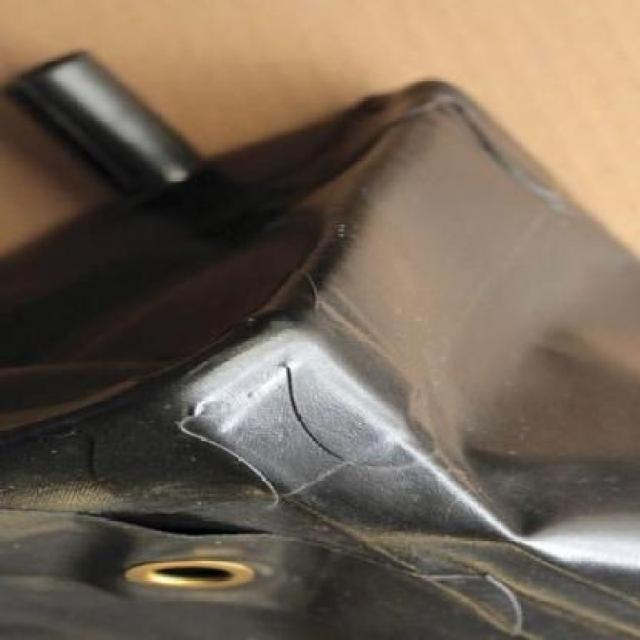crack: (268, 361, 357, 472)
